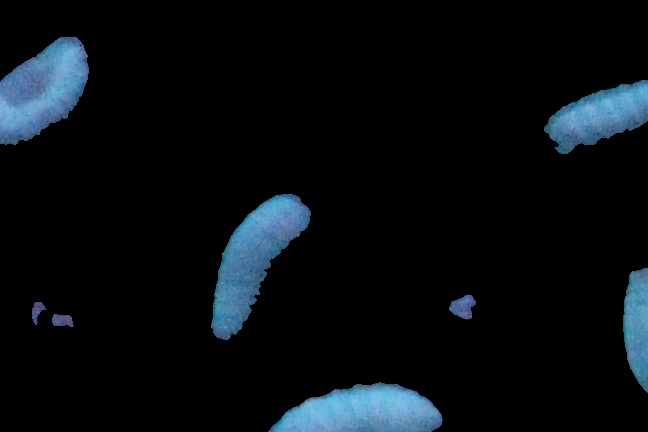larvae: (207, 191, 311, 346), (252, 376, 444, 432), (1, 36, 98, 146), (536, 80, 648, 153)
